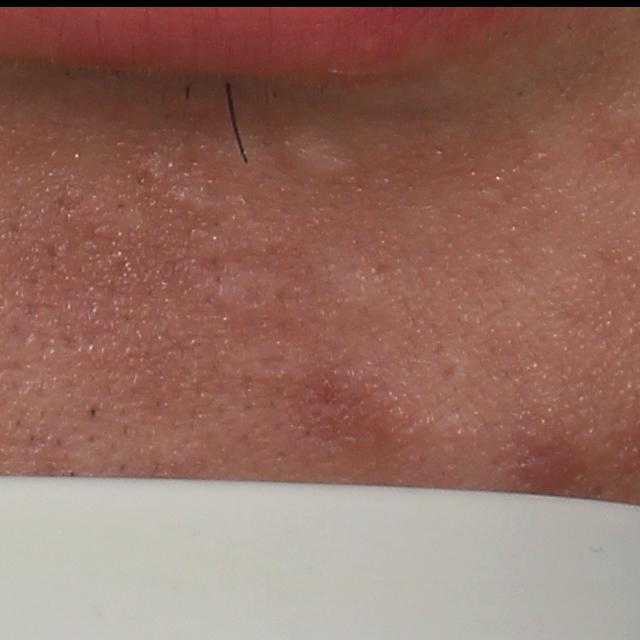hypertrophic_scar: (194, 259, 300, 313), (281, 137, 357, 182)
